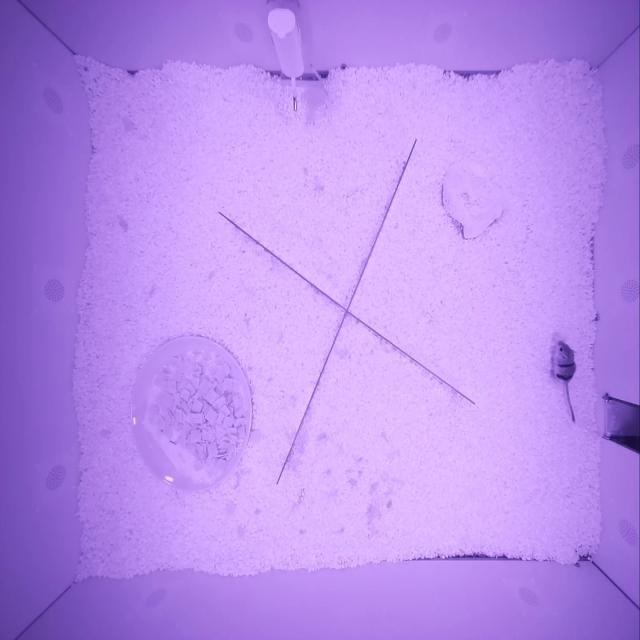pup_h_stripe: (554, 340, 577, 384)
